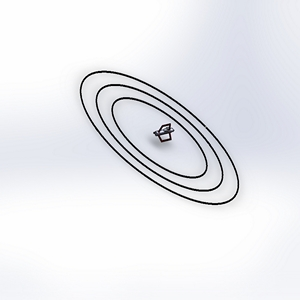circle: (72, 66, 246, 213)
submarine: (150, 120, 181, 149)
